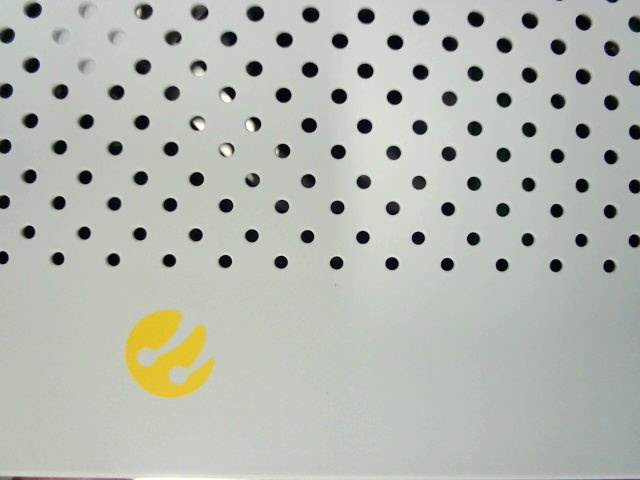AV_H3600Yellow: (113, 300, 231, 408)
